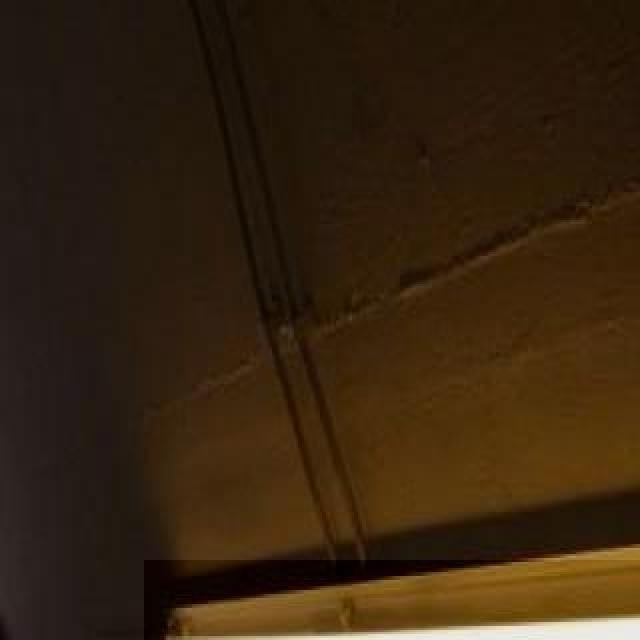fluorescent tube: (140, 578, 640, 640)
